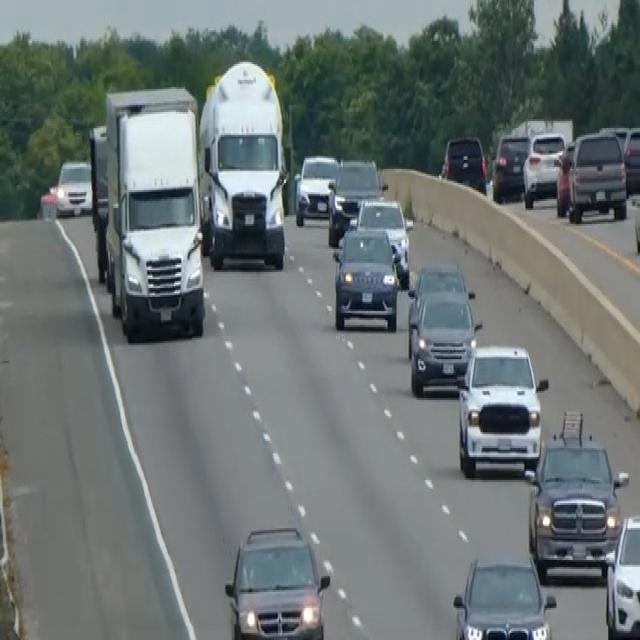car: (526, 411, 628, 581), (455, 338, 547, 478), (223, 523, 330, 638), (451, 553, 556, 638), (407, 284, 480, 396), (331, 224, 399, 332), (406, 260, 469, 358), (567, 128, 627, 222), (326, 154, 384, 243), (354, 194, 411, 284), (602, 510, 639, 638), (522, 128, 566, 208), (293, 151, 338, 226), (440, 132, 488, 194), (491, 130, 530, 201), (54, 156, 92, 217), (554, 139, 576, 215), (623, 122, 639, 194), (599, 123, 629, 153), (633, 181, 639, 258)
lorry: (100, 83, 205, 340), (198, 57, 289, 270)
